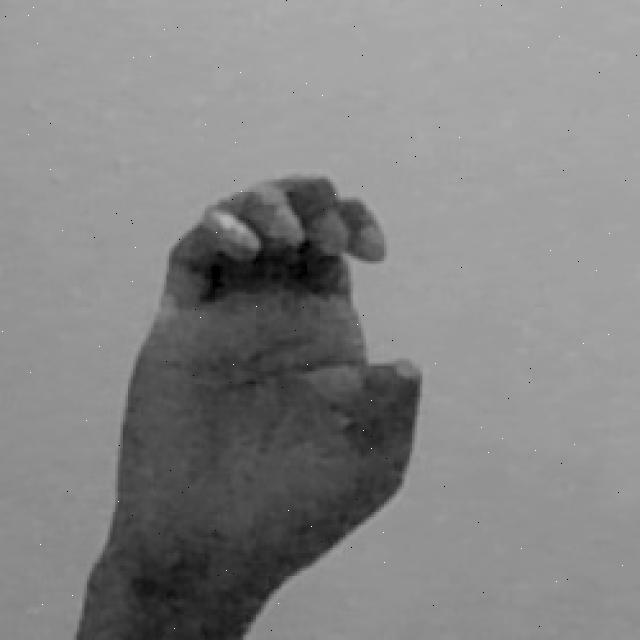E: (67, 171, 430, 640)
